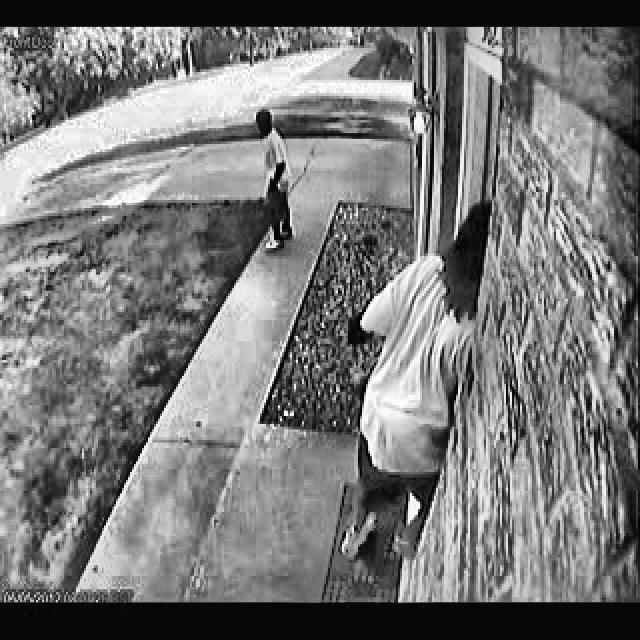burglary: (332, 179, 504, 578), (254, 105, 300, 258)
